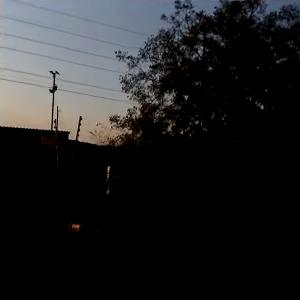follow: (61, 151, 145, 299)
